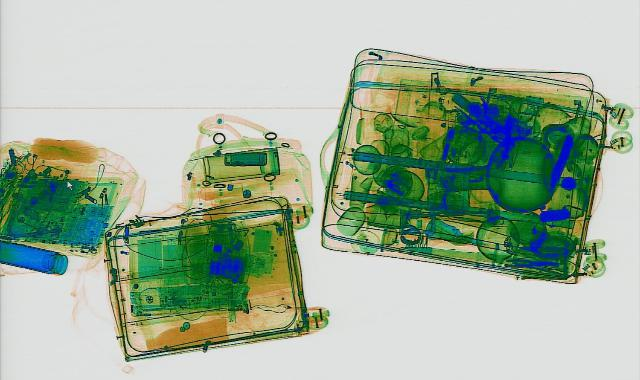Pliers: (504, 257, 560, 266)
Wrench: (1, 222, 65, 239)
